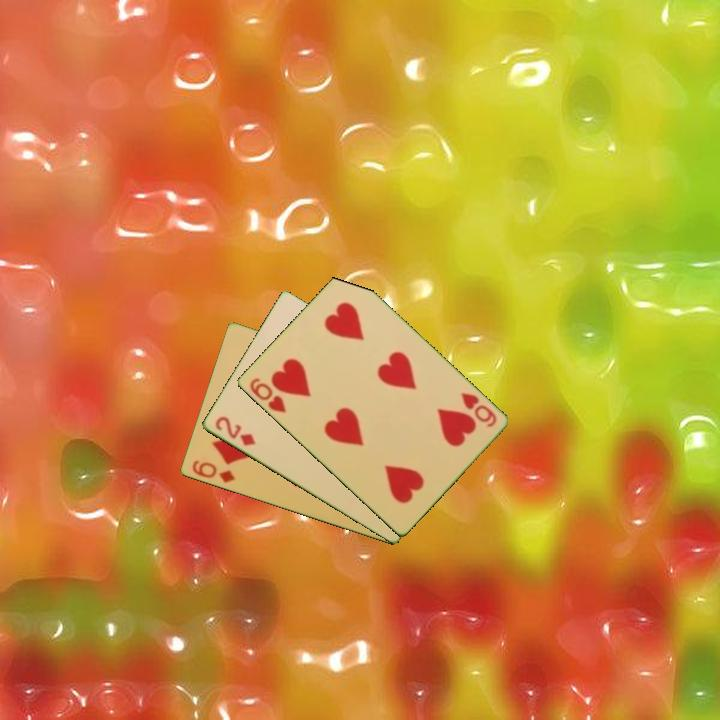2d: (211, 413, 258, 449)
6d: (188, 457, 237, 486)
6h: (246, 374, 289, 416), (457, 389, 499, 430)
